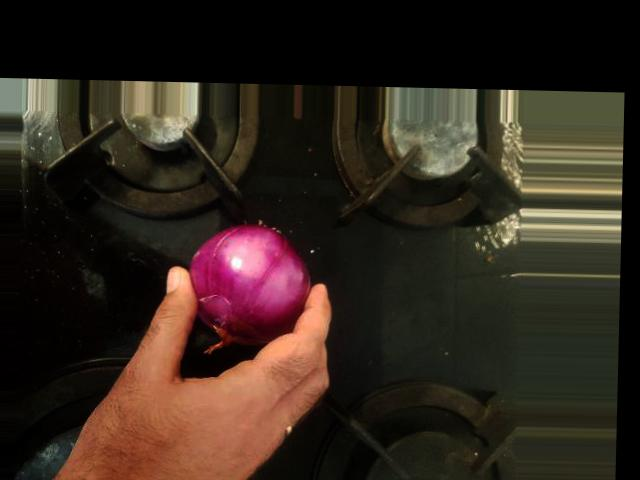onion: (293, 157, 413, 287)
